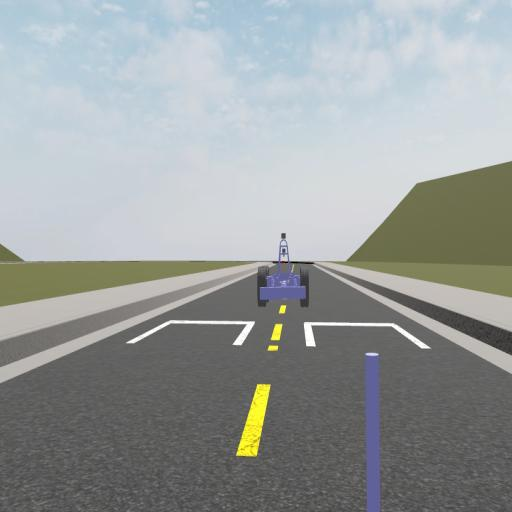ERP-42: (257, 232, 309, 306)
